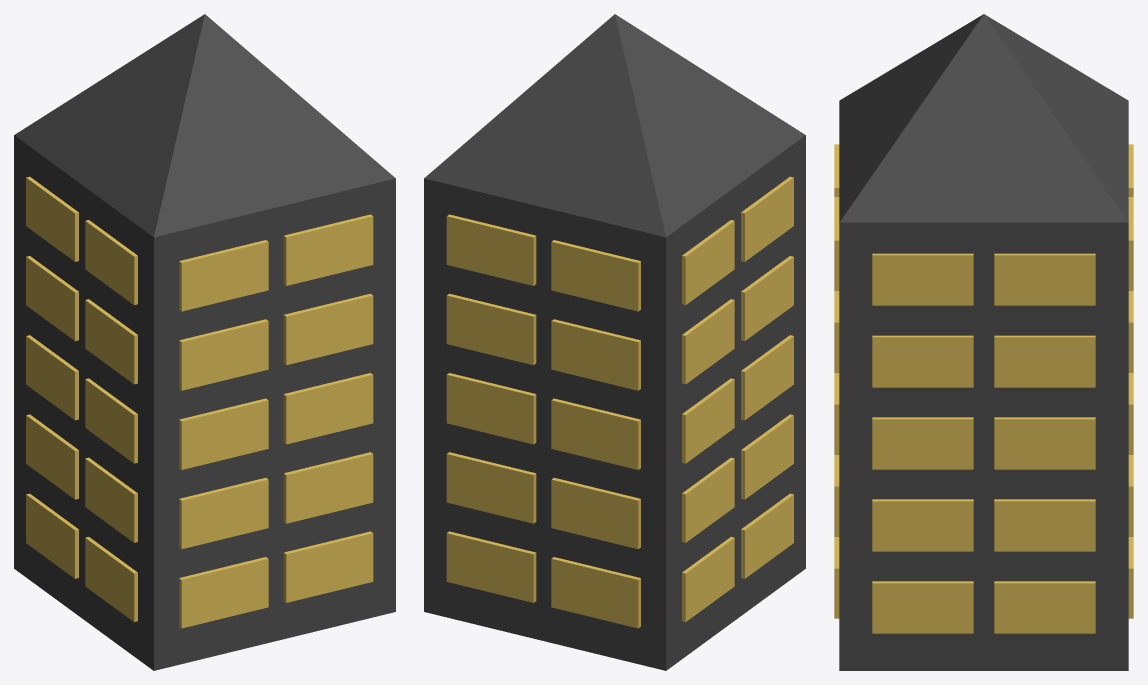
File: building2.glb
3 views of the same model, side by side, from view 1: azimuth 30°, elevation 25°; view 2: azimuth 150°, elevation 25°; view 3: azimuth 270°, elevation 25° (orthographic). The views are drawn at different scales.
Parts seen in each view (by area): view 1: Building2; view 2: Building2; view 3: Building2.
Boxes of the visible parts, x1,y1,x2,y2 form: Building2: [14, 14, 395, 670]; Building2: [424, 14, 805, 670]; Building2: [834, 14, 1133, 670].
Bounding box in the file's own units: 1.03 × 2.28 × 1.04.
